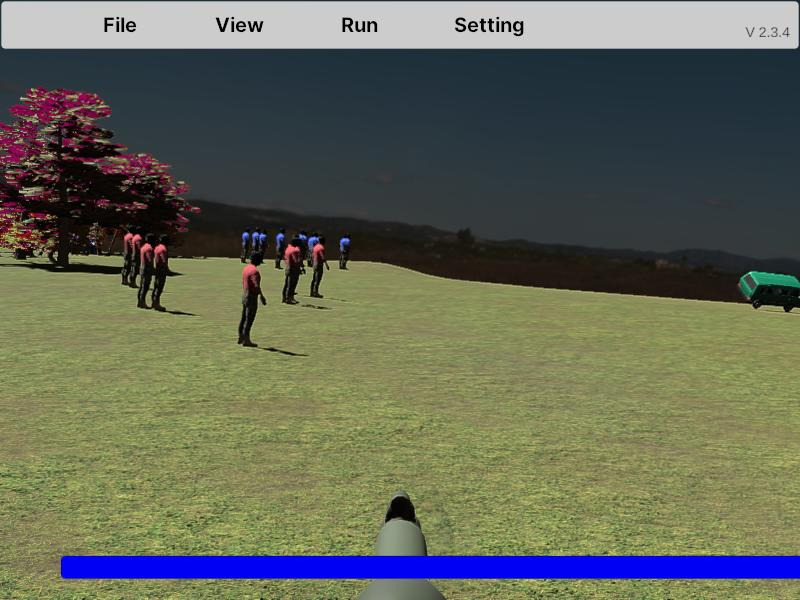Human: (238, 249, 266, 348), (137, 232, 158, 308), (282, 236, 304, 304), (152, 232, 171, 310), (310, 236, 329, 298), (120, 224, 136, 286)
car: (738, 271, 800, 312)
